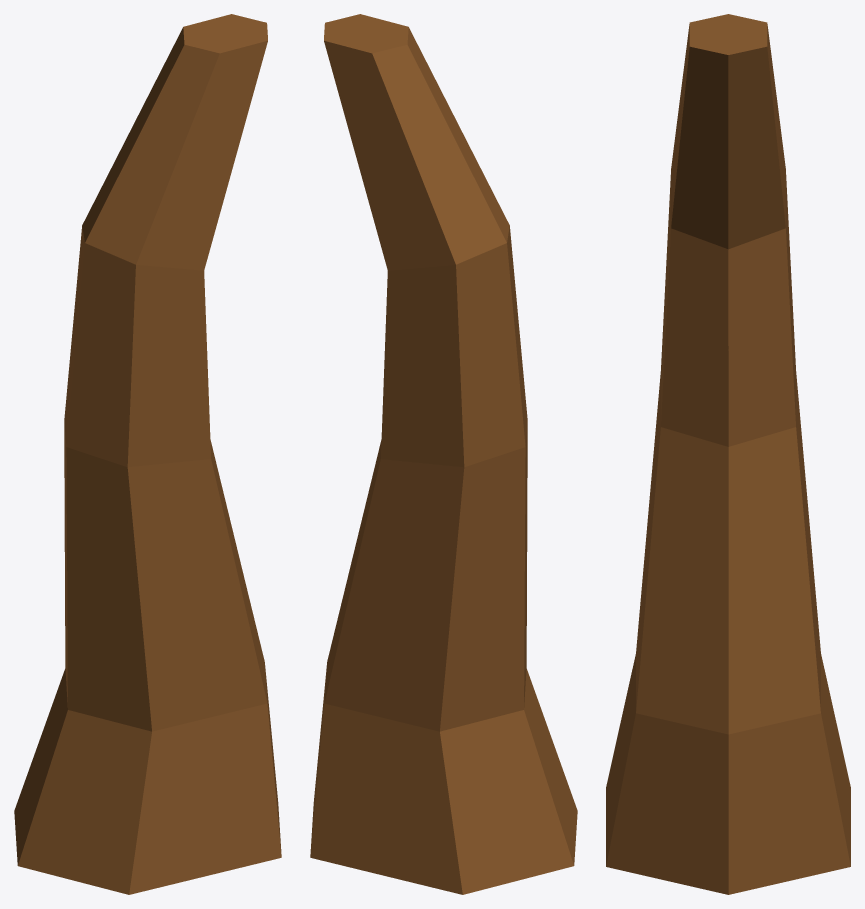
Rendered from Tree6.fbx.
The picture shows the model from 3 angles, left to right: view 1: azimuth 30°, elevation 25°; view 2: azimuth 150°, elevation 25°; view 3: azimuth 270°, elevation 25°; orthographic projection. The views are drawn at different scales.
Visible parts, largest first — view 1: Tree6; view 2: Tree6; view 3: Tree6.
Part boxes in pixels (x1,y1,x2,y2): Tree6: (14, 14, 281, 894); Tree6: (310, 14, 577, 894); Tree6: (606, 14, 850, 894).
Bounding box in the file's own units: 62.96 × 181 × 48.08.
